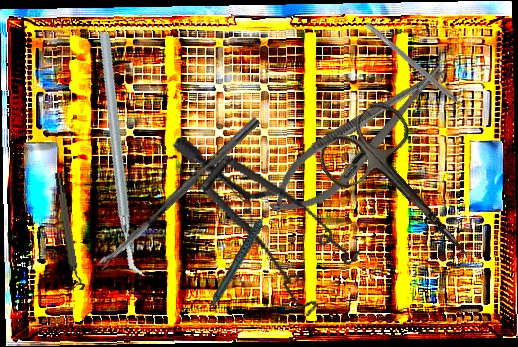Chopper: (32, 30, 213, 278)
Fixation Ring: (52, 171, 86, 292)
Handpiece: (192, 206, 292, 308)
Iris Scissors: (312, 94, 500, 288)
Needle Holder: (256, 48, 461, 232)
Spatula Surgical: (360, 21, 476, 121)
Speculum: (138, 134, 381, 326)
Surgical Spoon: (95, 115, 261, 271)
